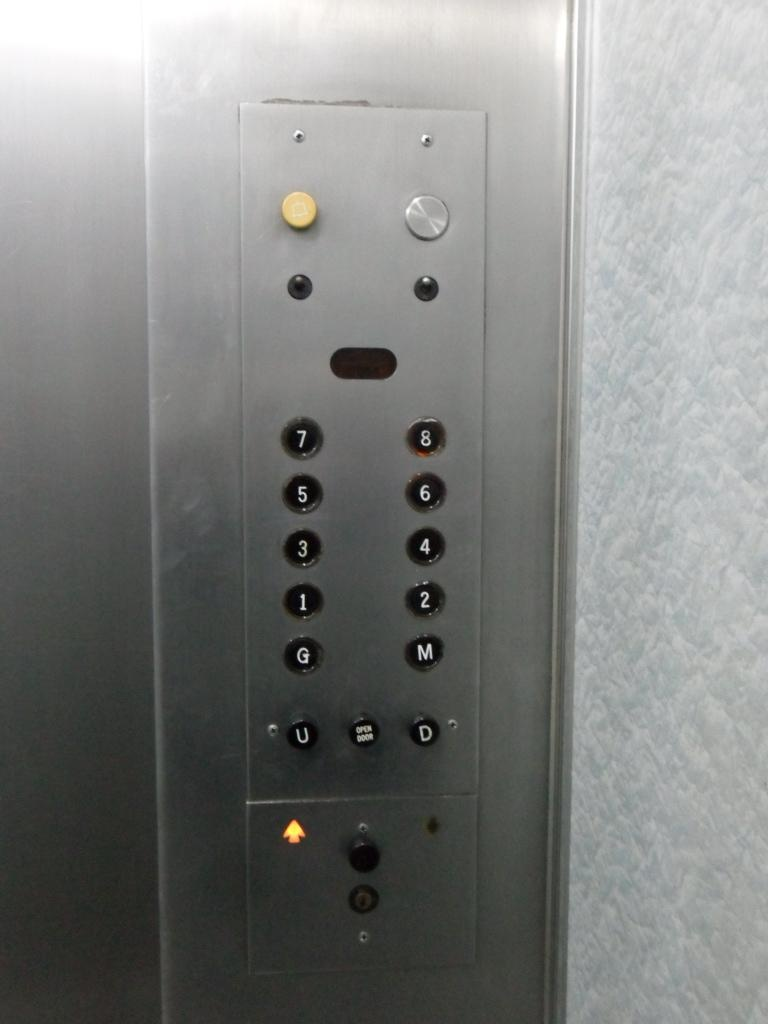1: (279, 580, 326, 623)
2: (400, 577, 447, 620)
3: (279, 527, 326, 570)
4: (403, 524, 450, 567)
5: (281, 473, 328, 516)
6: (401, 470, 448, 513)
7: (279, 417, 326, 460)
8: (403, 415, 450, 458)
D: (404, 713, 442, 750)
G: (280, 632, 327, 675)
M: (400, 631, 447, 674)
U: (283, 717, 321, 754)
alarm: (276, 188, 321, 233)
down: (413, 804, 451, 841)
empty: (401, 190, 453, 244), (345, 838, 383, 875)
keyhole: (345, 883, 379, 914)
text_open door: (345, 713, 383, 750)
up: (277, 815, 315, 852)
